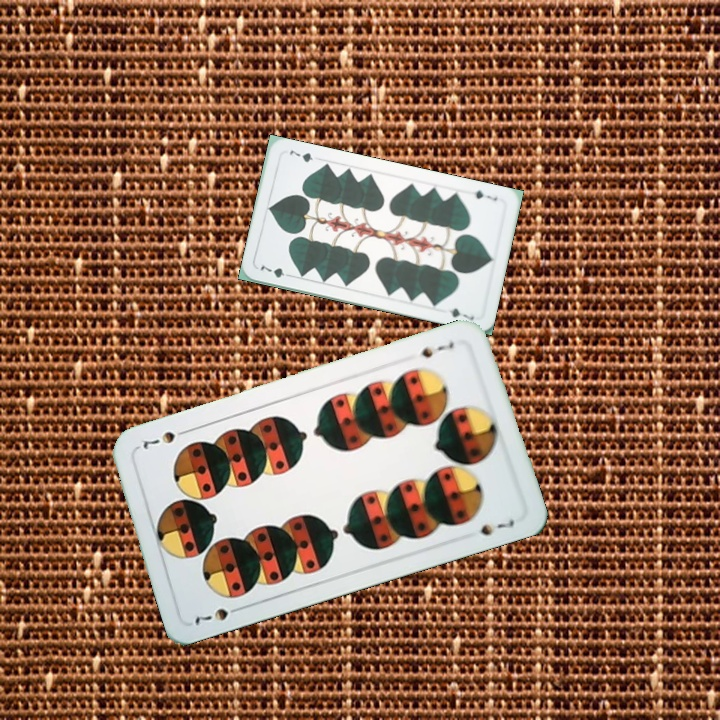G7: (256, 261, 295, 280), (470, 186, 500, 204)
S7: (190, 602, 246, 629), (408, 337, 457, 362)
